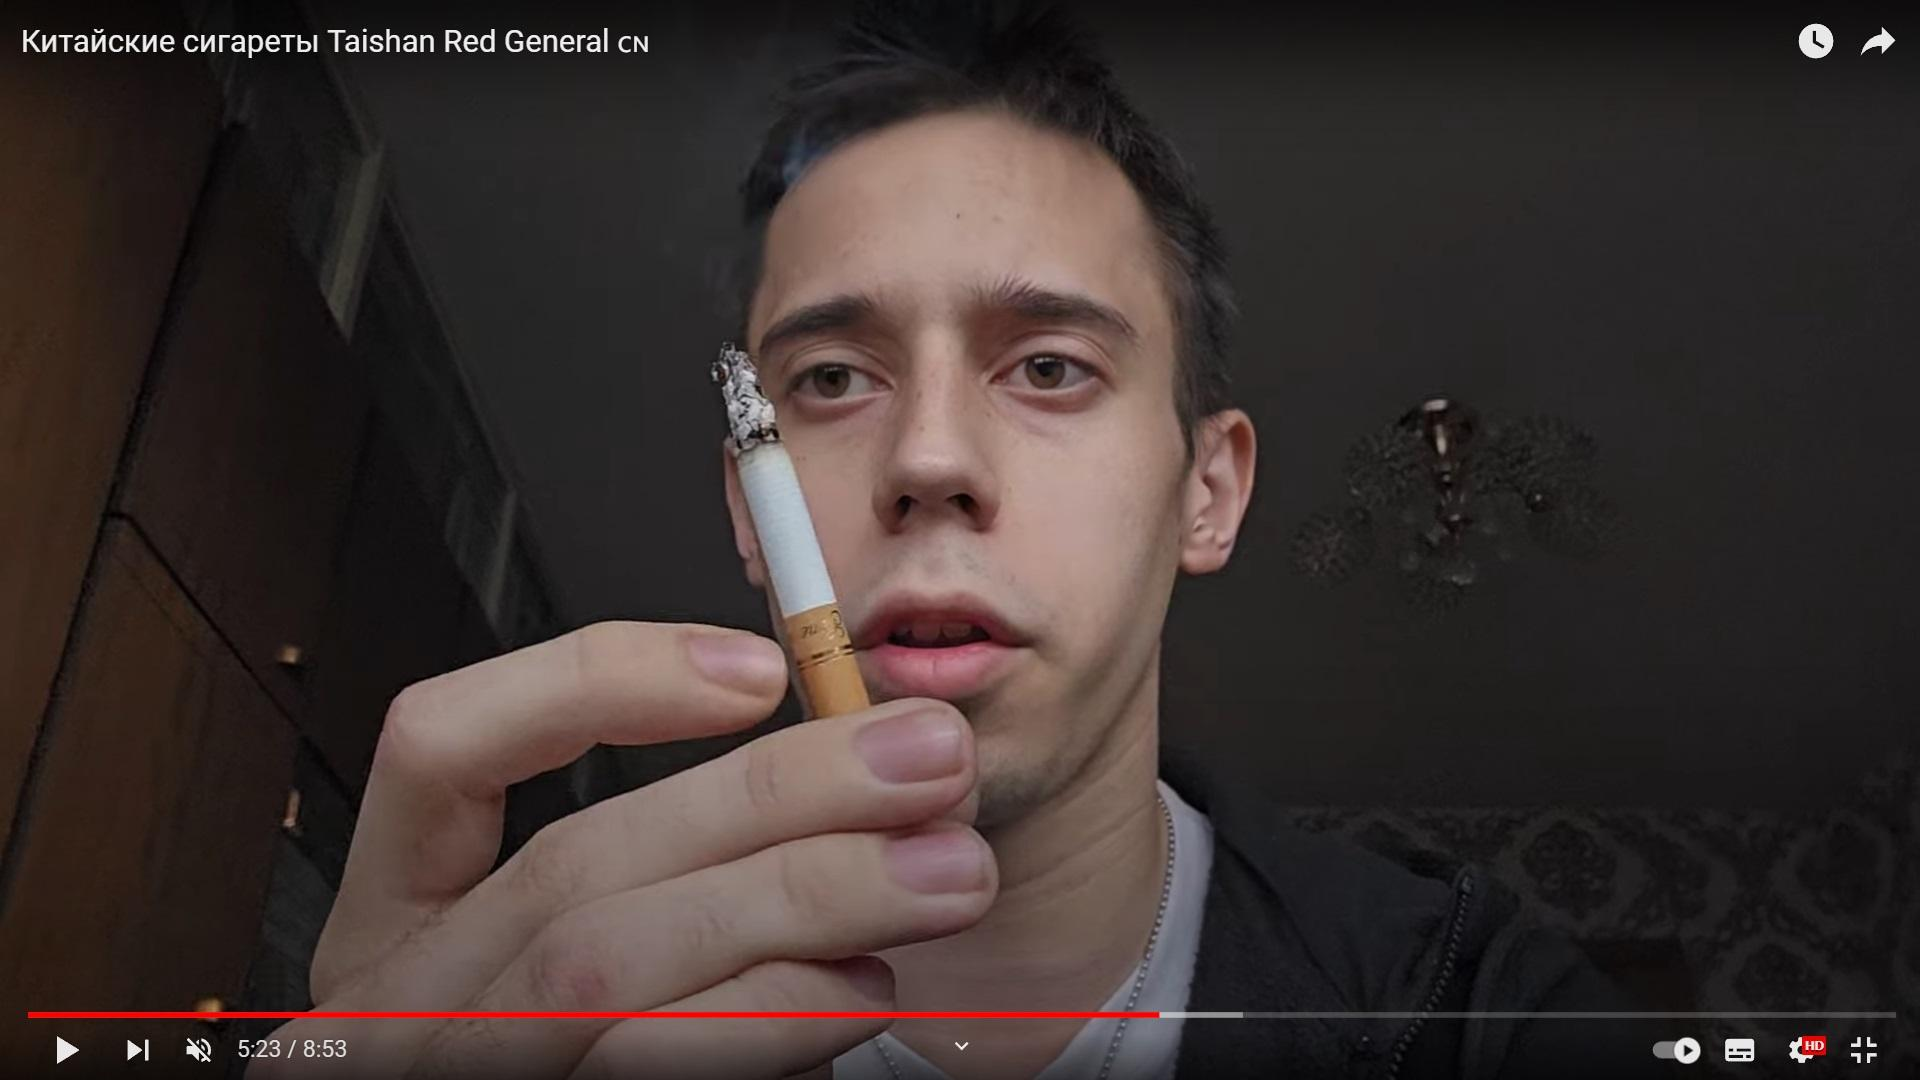cigarette: (711, 339, 870, 720)
